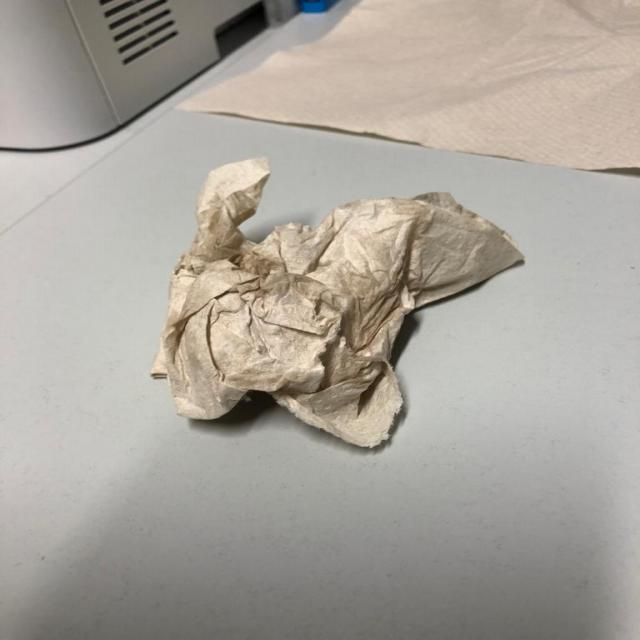kitchen paper: (131, 150, 540, 456)
